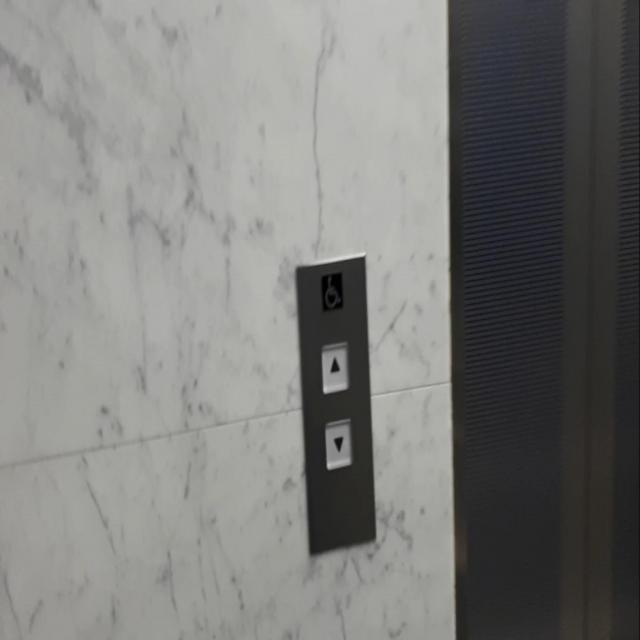CH: (320, 270, 343, 311)
close: (324, 417, 353, 471)
open: (320, 341, 350, 394)
